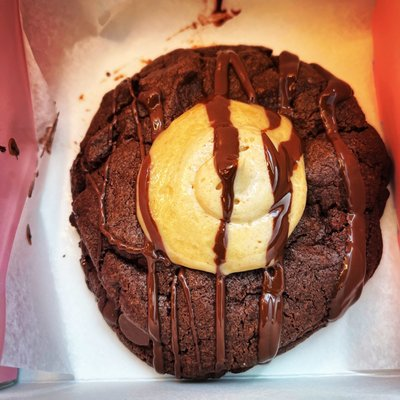soup: (65, 29, 370, 384)
